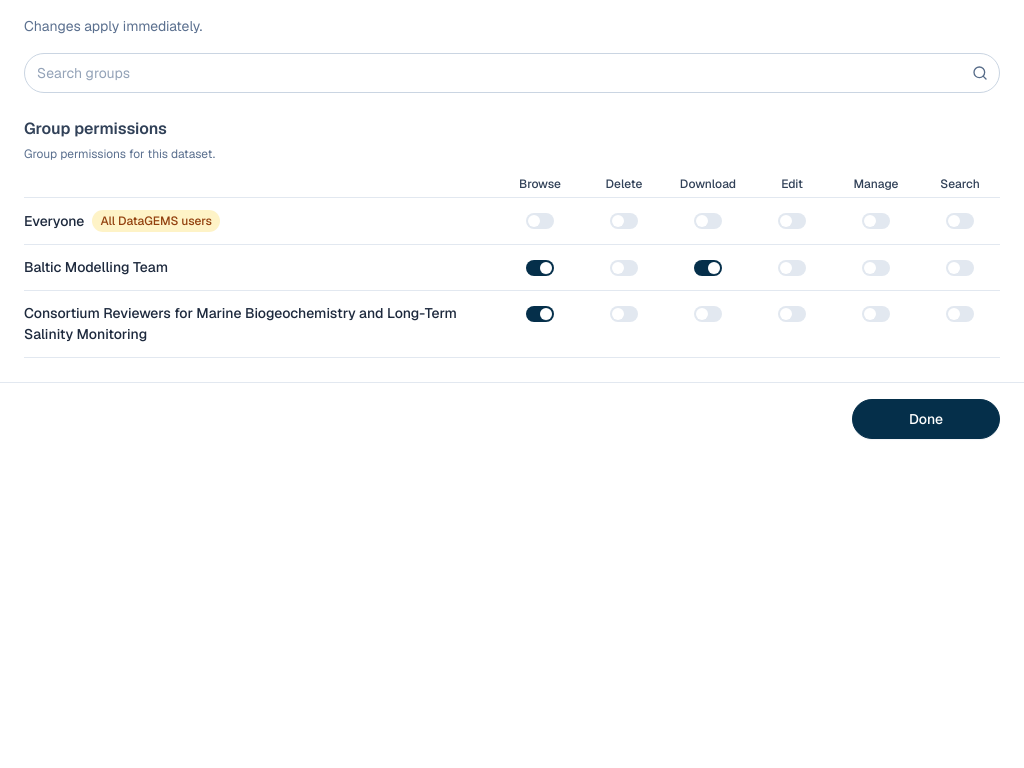
it: DatasetAccessView — confirmations › sends nothing when a confirmation is cancelled
Click the switch named "Baltic Modelling Team — Manage" at (876, 268), box [862,260,890,276]
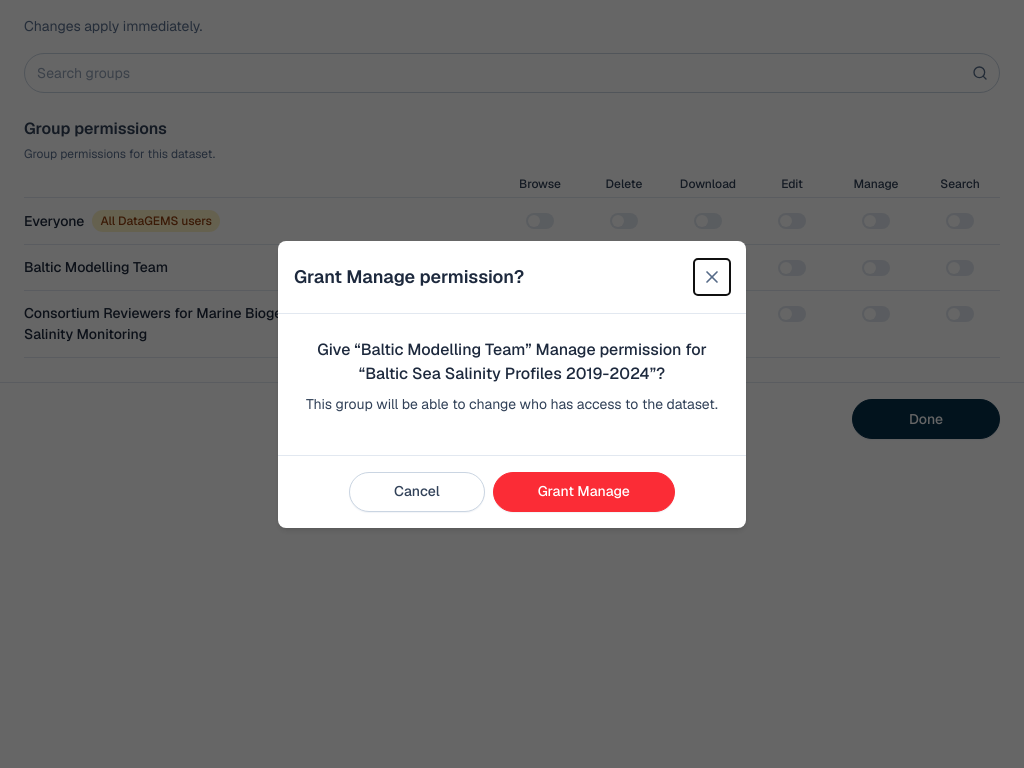
Click the button "Cancel" at (417, 492), box [349,472,485,512]
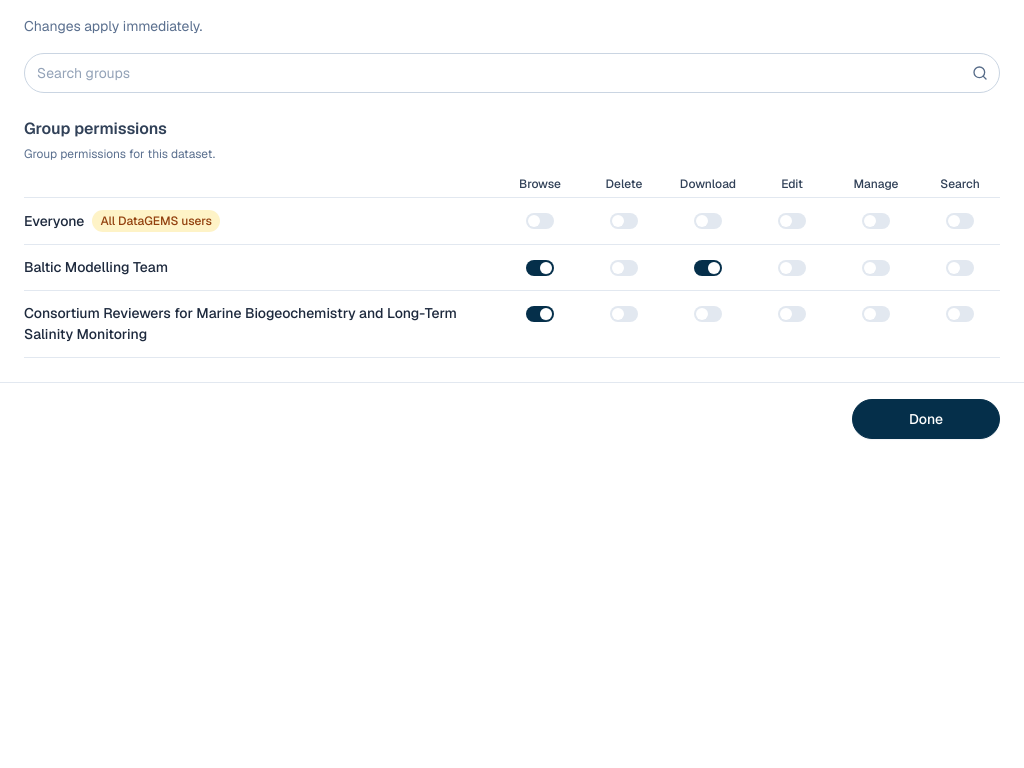
Now the dialog is gone
